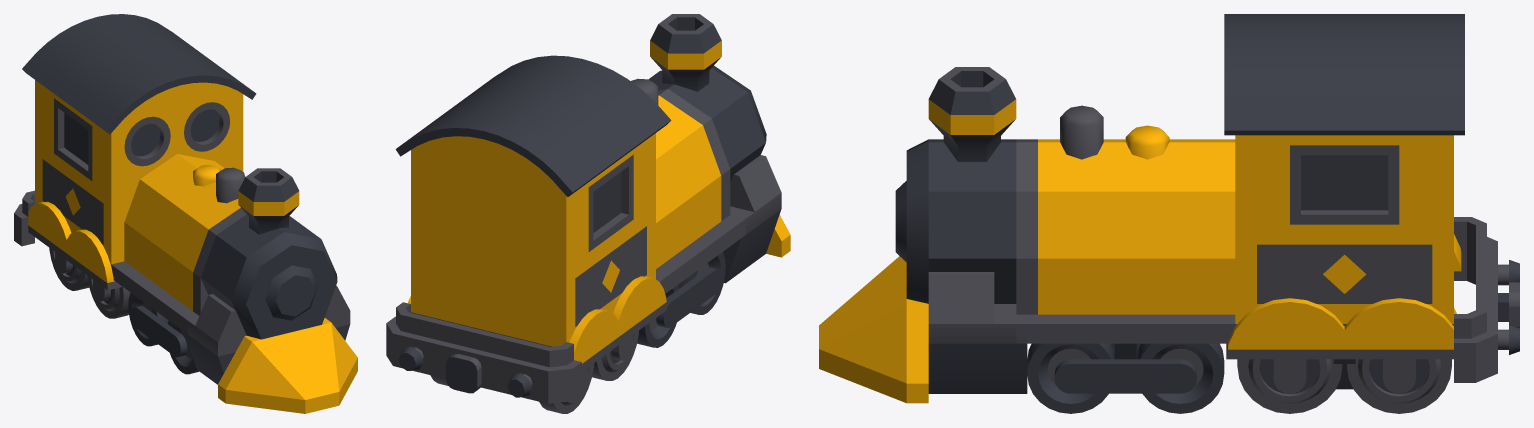
Rendered from SteamTrain.fbx.
The picture shows the model from 3 angles, left to right: view 1: azimuth 30°, elevation 25°; view 2: azimuth 150°, elevation 25°; view 3: azimuth 270°, elevation 25°; orthographic projection. The views are drawn at different scales.
Visible parts, largest first — view 1: diesel_cabin_round, steam_engine_front, steam_engine, detail_scoop, body_decoration, wheel_cover (×2), bogie_beam, chimney_large, fuel_small, wheel_medium (×2), wheel_simple (×2), coupling_large (+1 smaller); view 2: diesel_cabin_round, body_decoration, coupling_large, steam_engine, steam_engine_front, bogie_beam, wheel_cover (×2), chimney_large, fuel_small, wheel_medium (×2), wheel_simple (×2), detail_scoop (+1 smaller); view 3: diesel_cabin_round, steam_engine, steam_engine_front, body_decoration, wheel_cover (×2), bogie_beam, detail_scoop, coupling_large, fuel_small, wheel_medium (×2), wheel_simple (×2), chimney_large (+1 smaller).
Boxes of the visible parts, x1,y1,x2,y2 form: diesel_cabin_round: (22, 14, 256, 195); steam_engine_front: (195, 214, 349, 342); steam_engine: (124, 154, 290, 315); detail_scoop: (218, 318, 357, 413); body_decoration: (35, 140, 243, 264); wheel_cover (×2): (28, 201, 122, 290); bogie_beam: (111, 261, 199, 357); chimney_large: (238, 168, 299, 234); fuel_small: (184, 310, 350, 384); wheel_medium (×2): (49, 248, 130, 318); wheel_simple (×2): (128, 293, 198, 374); coupling_large: (14, 190, 34, 246); diesel_cabin_round: (395, 55, 671, 268); body_decoration: (411, 203, 655, 346); coupling_large: (386, 302, 581, 403); steam_engine: (631, 78, 730, 268); steam_engine_front: (648, 66, 781, 211); bogie_beam: (656, 215, 745, 327); wheel_cover (×2): (408, 276, 667, 371); chimney_large: (650, 14, 721, 91); fuel_small: (723, 193, 781, 283); wheel_medium (×2): (430, 330, 638, 413); wheel_simple (×2): (637, 252, 725, 347); detail_scoop: (766, 215, 790, 257); diesel_cabin_round: (1224, 14, 1464, 224); steam_engine: (1016, 105, 1235, 314); steam_engine_front: (895, 139, 1016, 323); body_decoration: (1235, 224, 1453, 323); wheel_cover (×2): (1226, 234, 1462, 359); bogie_beam: (1016, 314, 1235, 393); detail_scoop: (819, 256, 928, 403); coupling_large: (1454, 217, 1519, 382); fuel_small: (928, 304, 1027, 393); wheel_medium (×2): (1237, 359, 1451, 413); wheel_simple (×2): (1027, 343, 1224, 413); chimney_large: (928, 67, 1016, 161).
Size of the model in its own units: 12 by 17.5 by 32.
